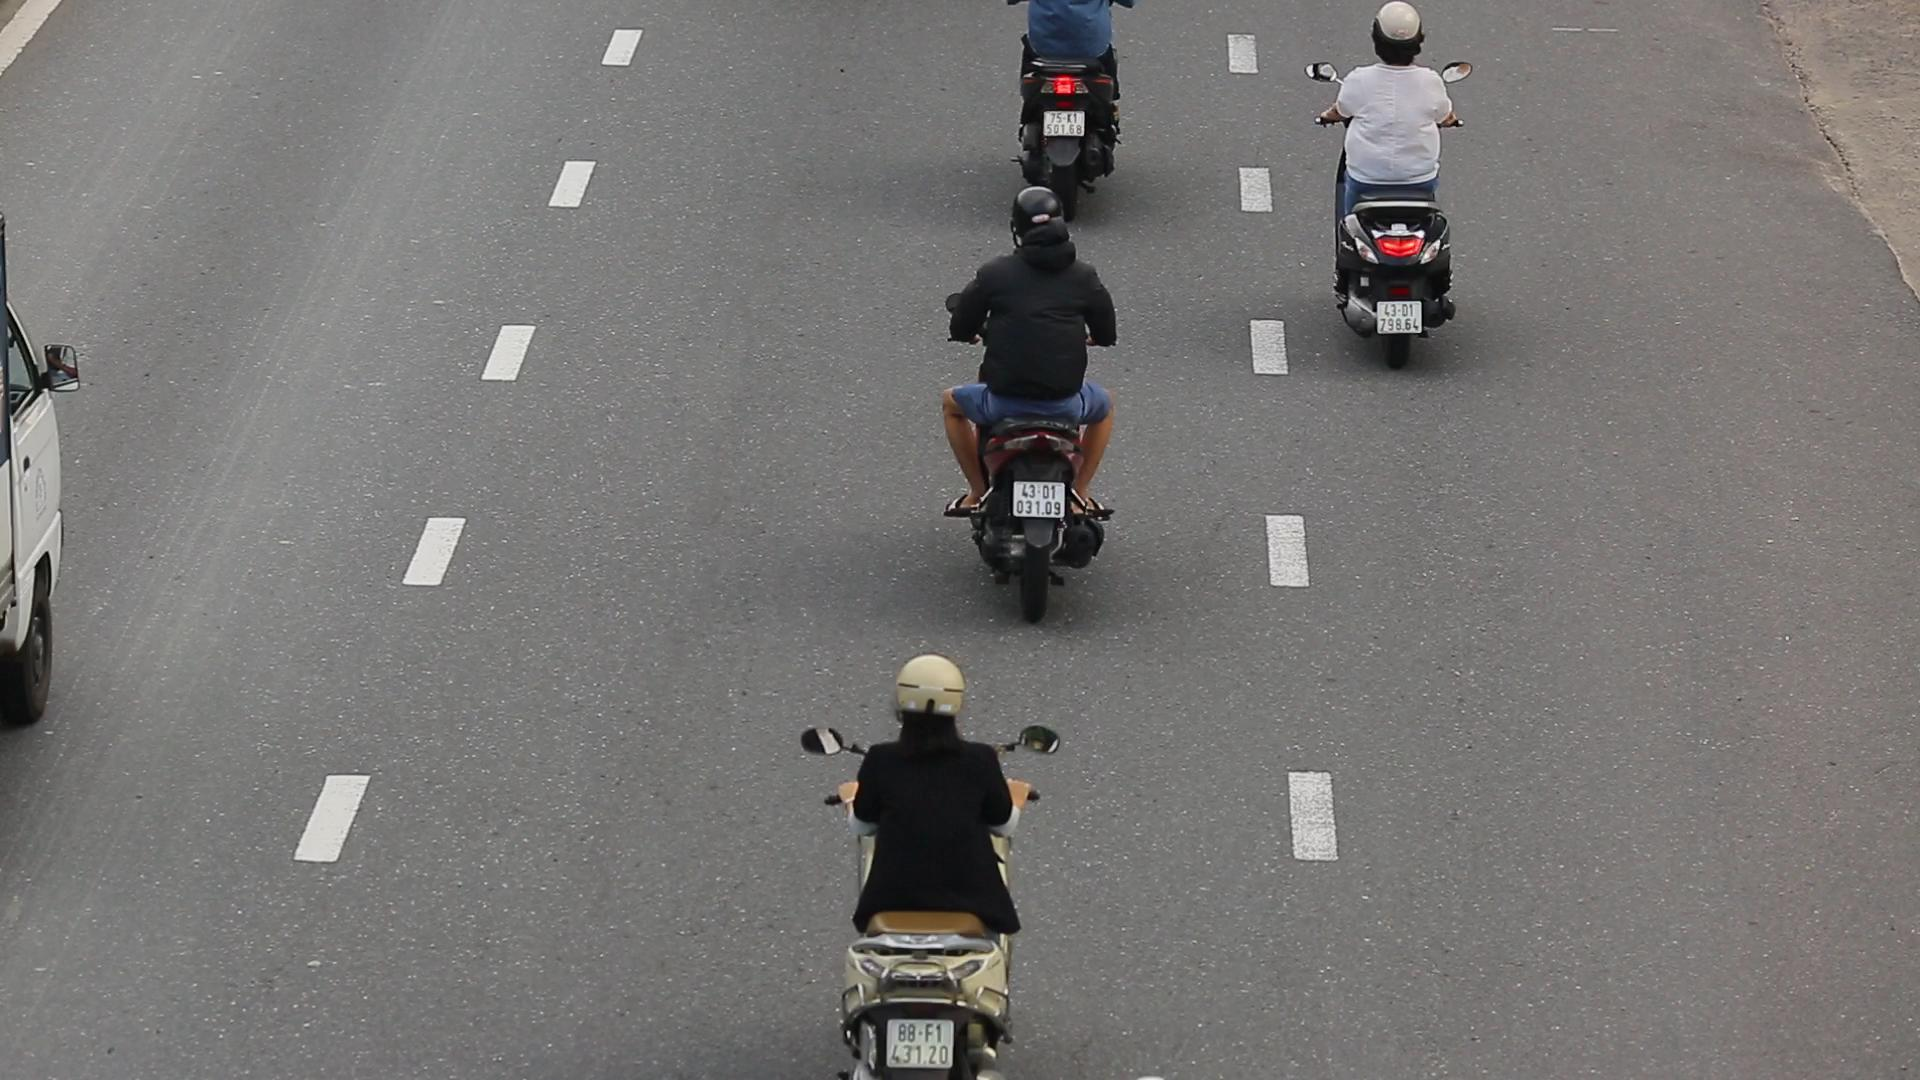motobike: (906, 170, 1139, 636)
